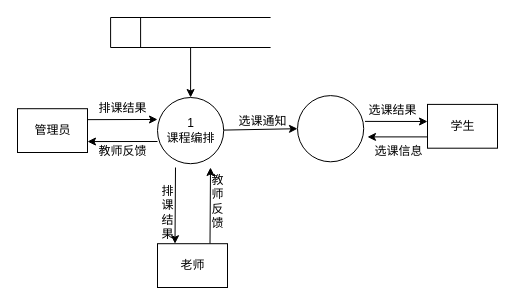
Some shapes in this 515 by 305 pixel diagram are drawn without their labels. The shapes that lost their labels are listed below. From the top down, each one's centre as x and y in pixels, then its label:
(190,32): F1 老师、学生、教室信息
(330,128): 2 学生选课
